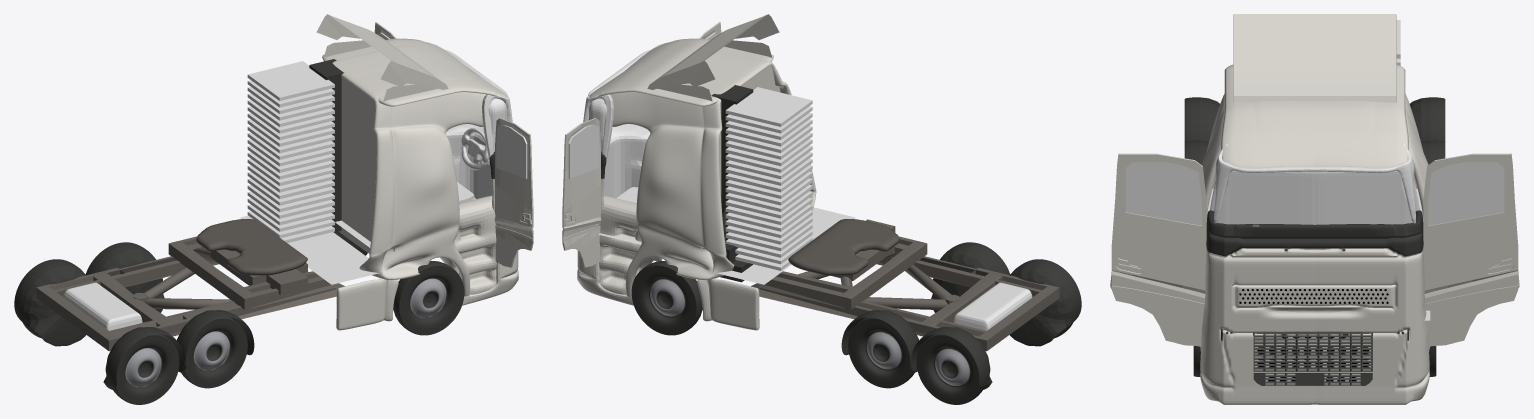
File: HGV.fbx
The picture shows the model from 3 angles, left to right: view 1: azimuth 30°, elevation 25°; view 2: azimuth 150°, elevation 25°; view 3: azimuth 270°, elevation 25°; orthographic projection. The views are drawn at different scales.
Parts seen in each view (by area): view 1: Plane, Cut, Back, WheelCover2, Wheel, Door, External Cushon, External Frame 2.001, Wheel.002, Top Fan, Wheel.001, Steps (+15 smaller); view 2: Plane, Cut, WheelCover2, Wheel, Door, External Cushon, External Frame 2.001, External Frame 1, Wheel.002, Top Fan, Wheel.001, Steps (+14 smaller); view 3: Front, Door, Plane, Top Fan, WindscreenGlass, Window, GrillFront, WheelCover2, WindScreen, WheelCover, GrillFront.001, Plane.001 (+4 smaller).
Part boxes in pixels (left/top/right/bottom): Plane: left=322, top=38, right=506, bottom=296; Cut: left=247, top=61, right=334, bottom=242; Back: left=339, top=77, right=394, bottom=253; WheelCover2: left=14, top=259, right=184, bottom=389; Wheel: left=334, top=231, right=464, bottom=335; Door: left=374, top=22, right=533, bottom=267; External Cushon: left=196, top=219, right=307, bottom=275; External Frame 2.001: left=93, top=256, right=344, bottom=335; Wheel.002: left=23, top=323, right=179, bottom=404; Top Fan: left=316, top=14, right=448, bottom=101; Wheel.001: left=181, top=317, right=247, bottom=388; Steps: left=440, top=195, right=496, bottom=294; Plane: left=589, top=38, right=816, bottom=296; Cut: left=725, top=87, right=812, bottom=270; WheelCover2: left=911, top=259, right=1081, bottom=389; Wheel: left=631, top=261, right=702, bottom=335; Door: left=562, top=22, right=721, bottom=267; External Cushon: left=788, top=219, right=899, bottom=275; External Frame 2.001: left=751, top=256, right=1002, bottom=335; External Frame 1: left=758, top=236, right=927, bottom=309; Wheel.002: left=916, top=323, right=1072, bottom=404; Top Fan: left=647, top=14, right=779, bottom=101; Wheel.001: left=848, top=317, right=914, bottom=388; Steps: left=599, top=195, right=653, bottom=294; Front: left=1200, top=210, right=1429, bottom=404; Door: left=1110, top=153, right=1519, bottom=346; Plane: left=1200, top=64, right=1429, bottom=351; Top Fan: left=1233, top=14, right=1396, bottom=103; WindscreenGlass: left=1215, top=157, right=1414, bottom=224; Window: left=1125, top=162, right=1504, bottom=225; GrillFront: left=1253, top=331, right=1373, bottom=371; WheelCover2: left=1184, top=97, right=1445, bottom=141; WindScreen: left=1210, top=143, right=1419, bottom=223; WheelCover: left=1184, top=140, right=1445, bottom=164; GrillFront.001: left=1253, top=373, right=1372, bottom=385; Plane.001: left=1254, top=373, right=1372, bottom=385.
Bounding box in the file's own units: 1520 × 931 × 1008.
